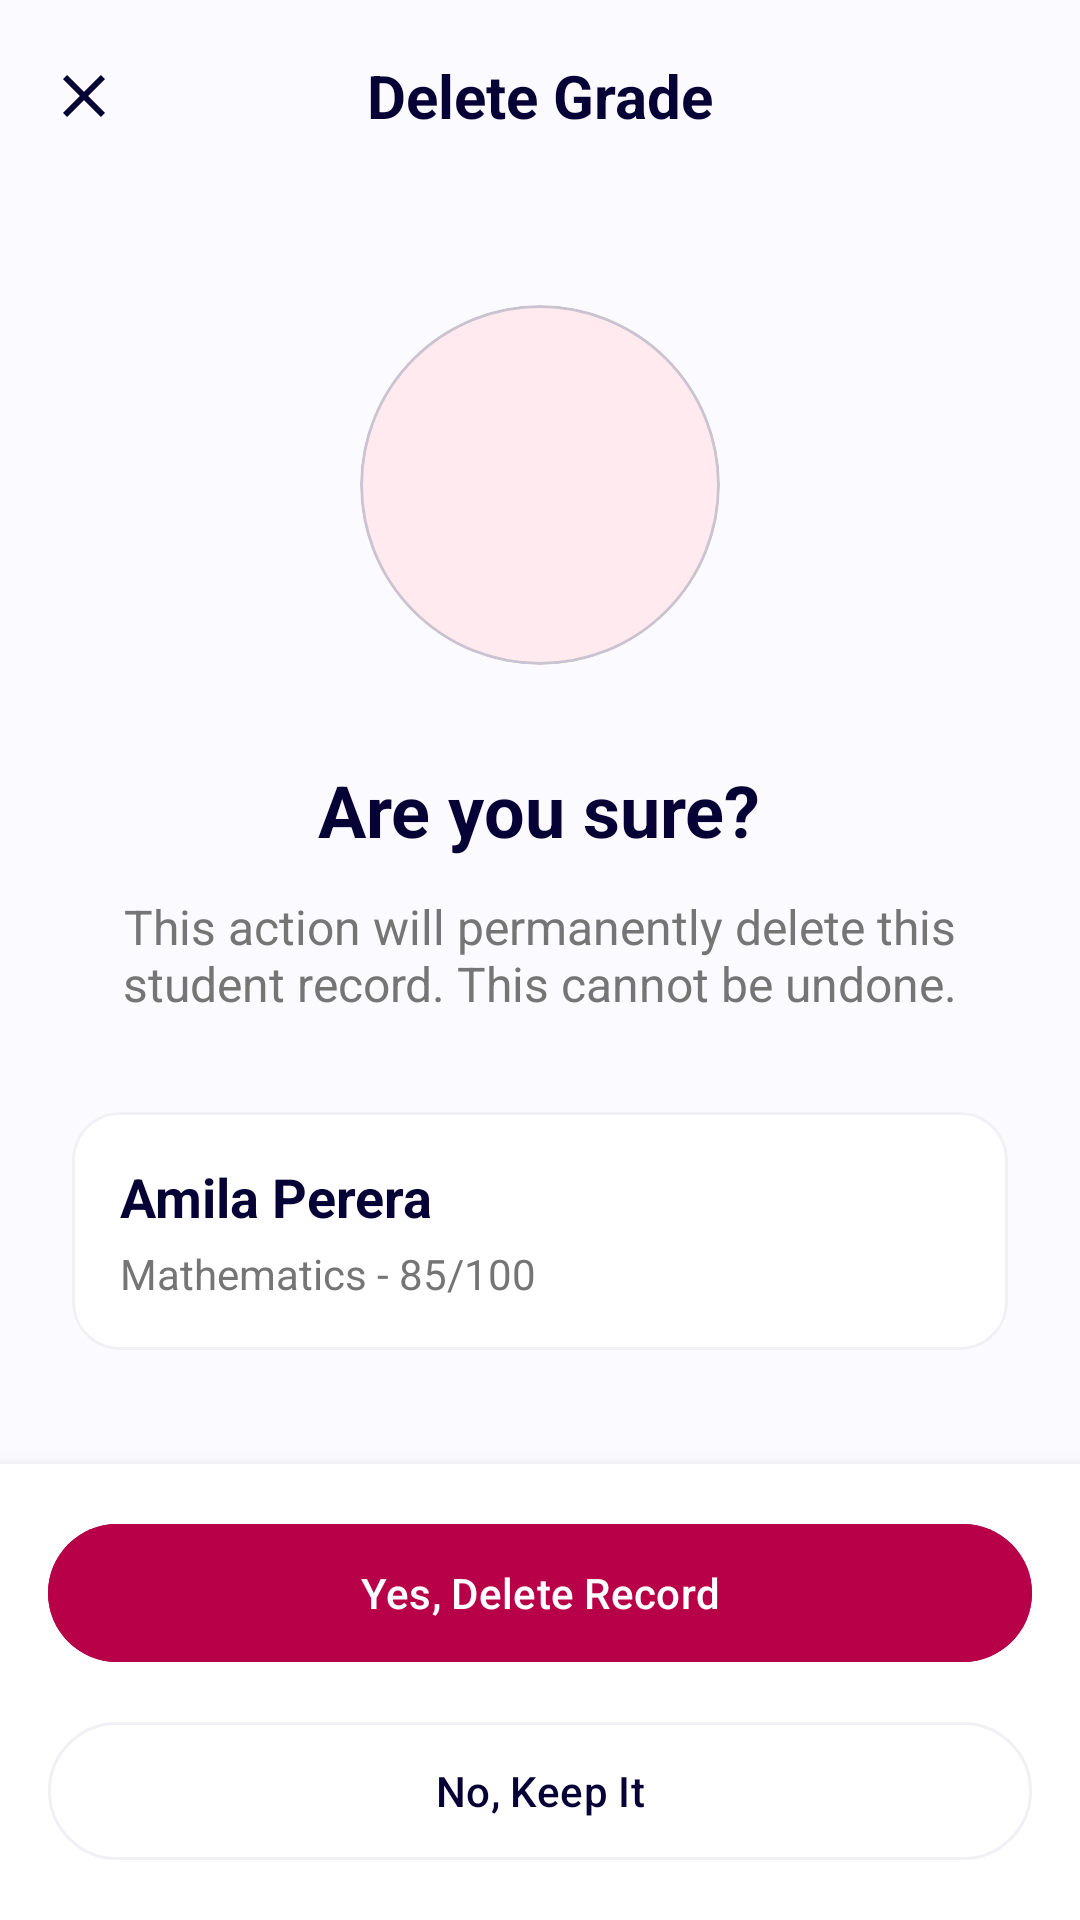

Icon click points for this 1080 × 1920 phone screenshot, format (x,y):
close: (84,96)
